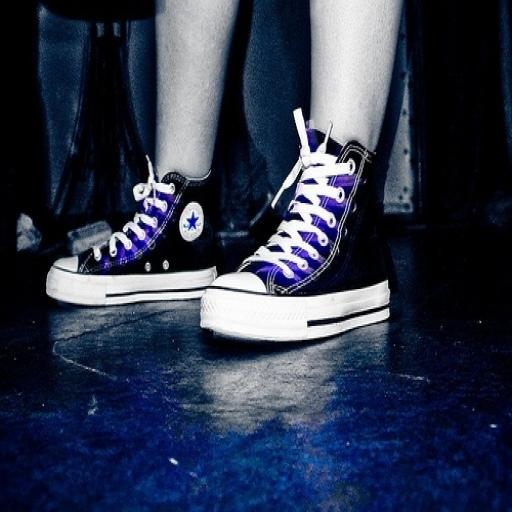shoe: (201, 109, 390, 341), (46, 160, 217, 306)
